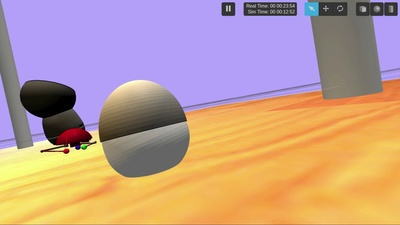mira_robot: (99, 80, 190, 178)
